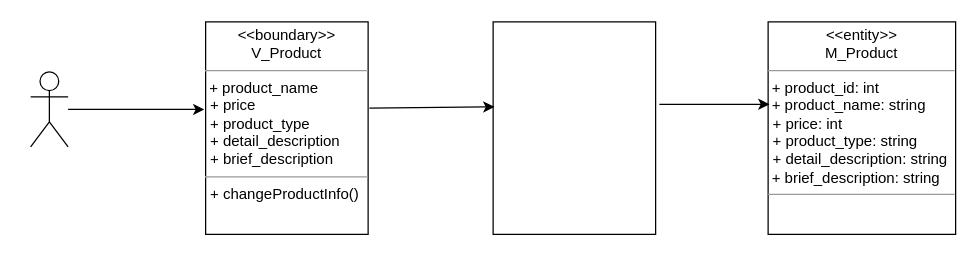
Image size: 978x256. Some labels were removed from this diagram. The shapes that lost their labels are listed below. From the top down, each one's centre as x and y in pixels, then its label:
the point at 48,109: Provider
the point at 574,127: < <control >> C_Product + changeProductInfo()
